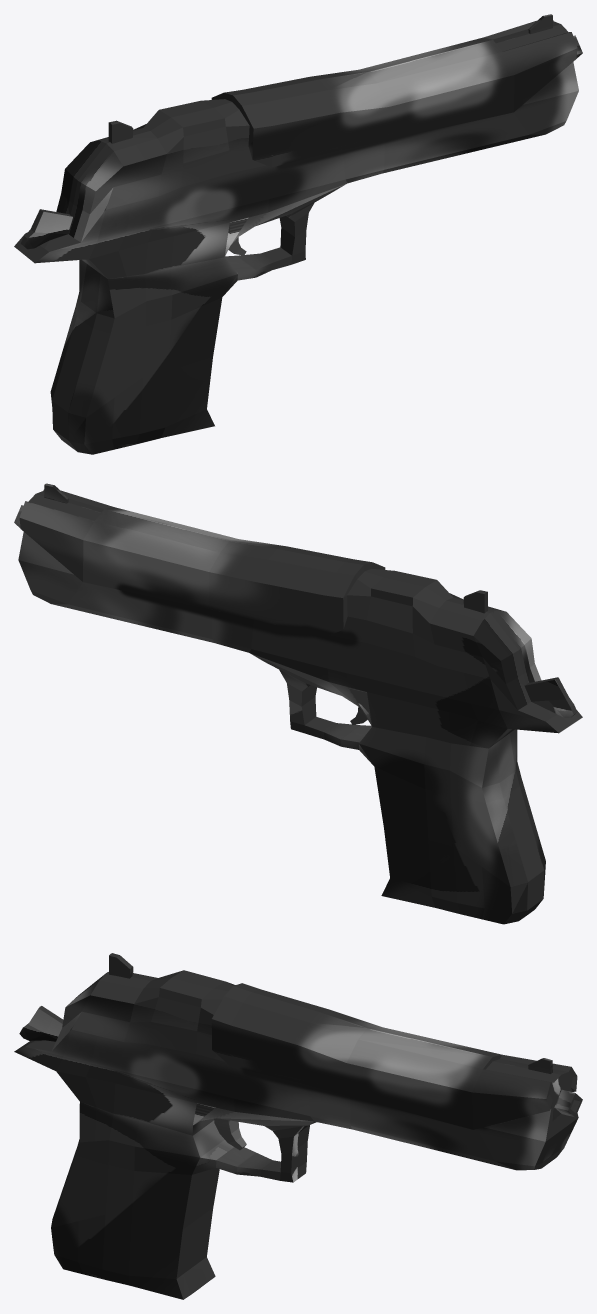
Rendered from arma.fbx.
3 renders of one model, top to bottom at view 1: azimuth 30°, elevation 25°; view 2: azimuth 150°, elevation 25°; view 3: azimuth 330°, elevation 25°, orthographic.
Visible parts, largest first — view 1: Cylinder; view 2: Cylinder; view 3: Cylinder.
Boxes of the visible parts, box(x1,y1,x2,y2) form: Cylinder: box(14, 14, 582, 454); Cylinder: box(14, 483, 582, 924); Cylinder: box(14, 953, 582, 1299).
Size of the model in its own units: 568 by 308 by 75.12.
